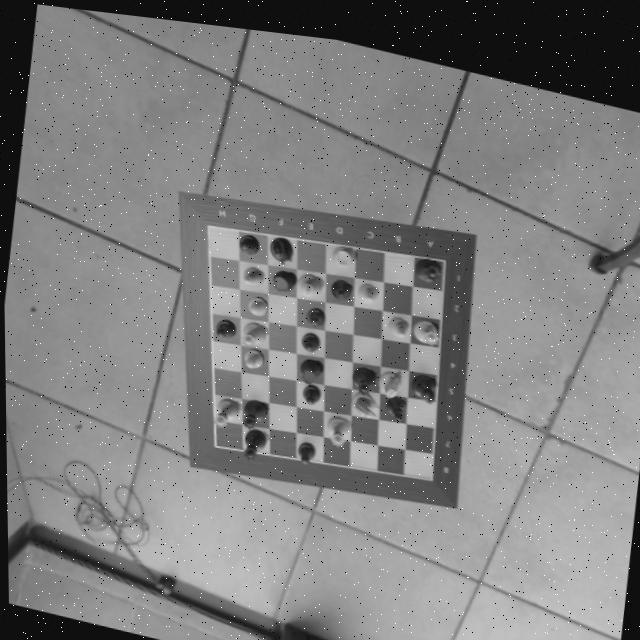chessboard: (207, 221, 445, 469)
